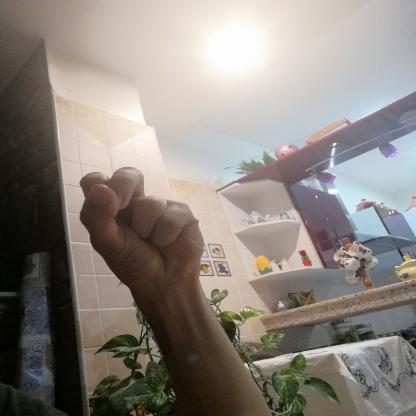QAAF: (66, 162, 228, 302)
